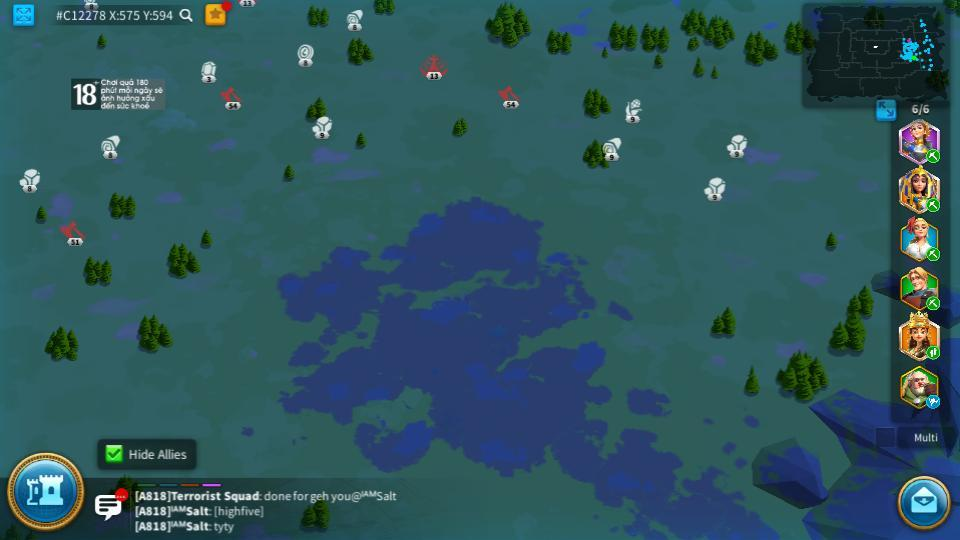gem-z-out: (199, 61, 218, 82)
march_farming: (925, 197, 941, 212), (925, 248, 941, 260)
march_idle: (925, 396, 942, 408)
march_marching: (925, 347, 942, 359), (925, 150, 941, 162), (925, 297, 942, 308)
